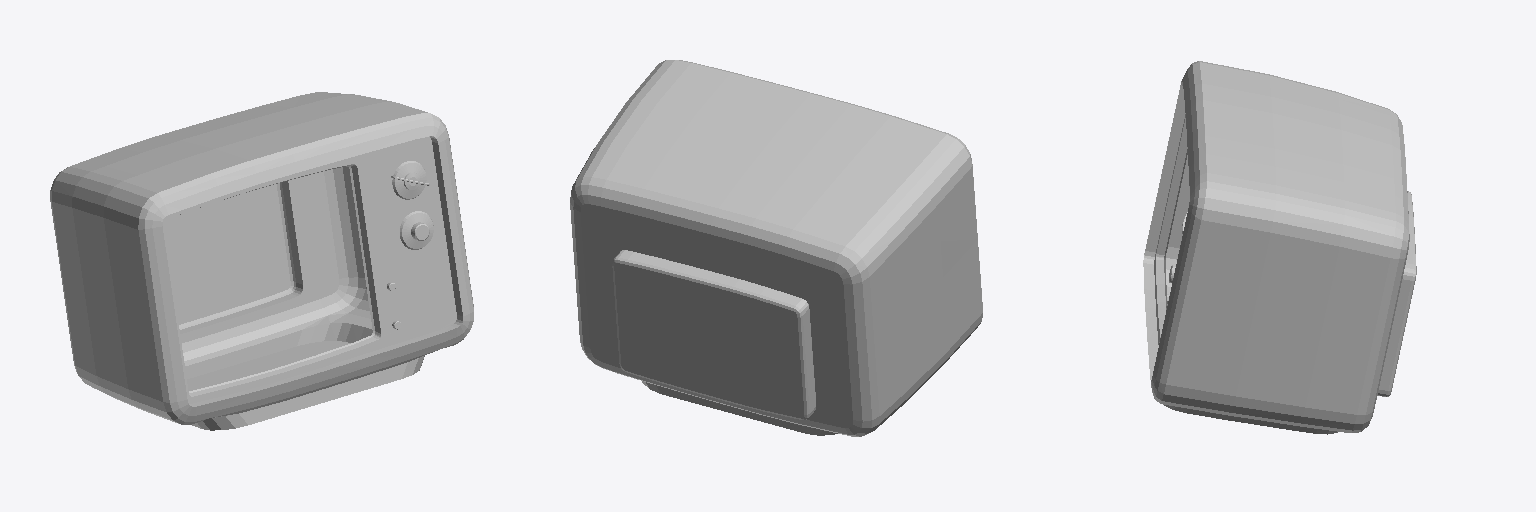
3 renders of one model, left to right at view 1: azimuth 30°, elevation 25°; view 2: azimuth 150°, elevation 25°; view 3: azimuth 270°, elevation 25°, orthographic.
Parts seen in each view (by area): view 1: Fernseher; view 2: Fernseher; view 3: Fernseher.
Part boxes in pixels (left/top/right/bottom): Fernseher: left=50, top=92, right=473, bottom=430; Fernseher: left=570, top=60, right=982, bottom=436; Fernseher: left=1143, top=61, right=1416, bottom=434.
Bounding box in the file's own units: 0.6981 × 0.5739 × 0.5127.